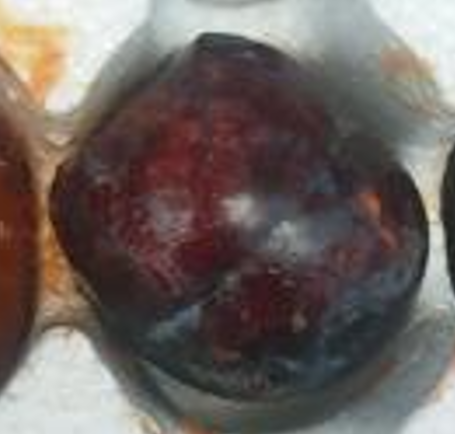plum_C: (50, 34, 431, 404)
